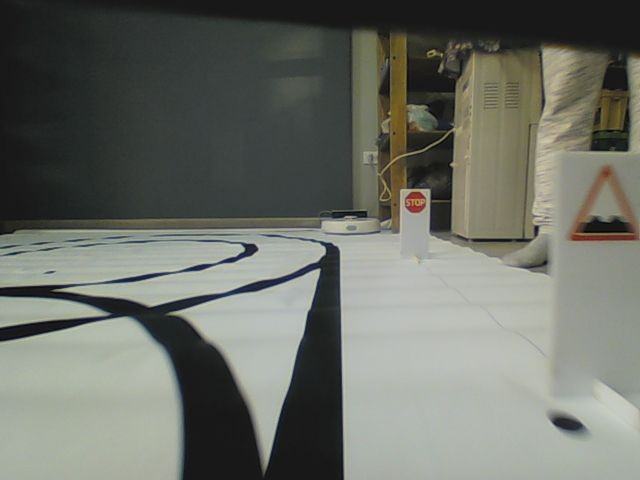Nerov: (567, 164, 638, 247)
Stop: (404, 190, 428, 214)
